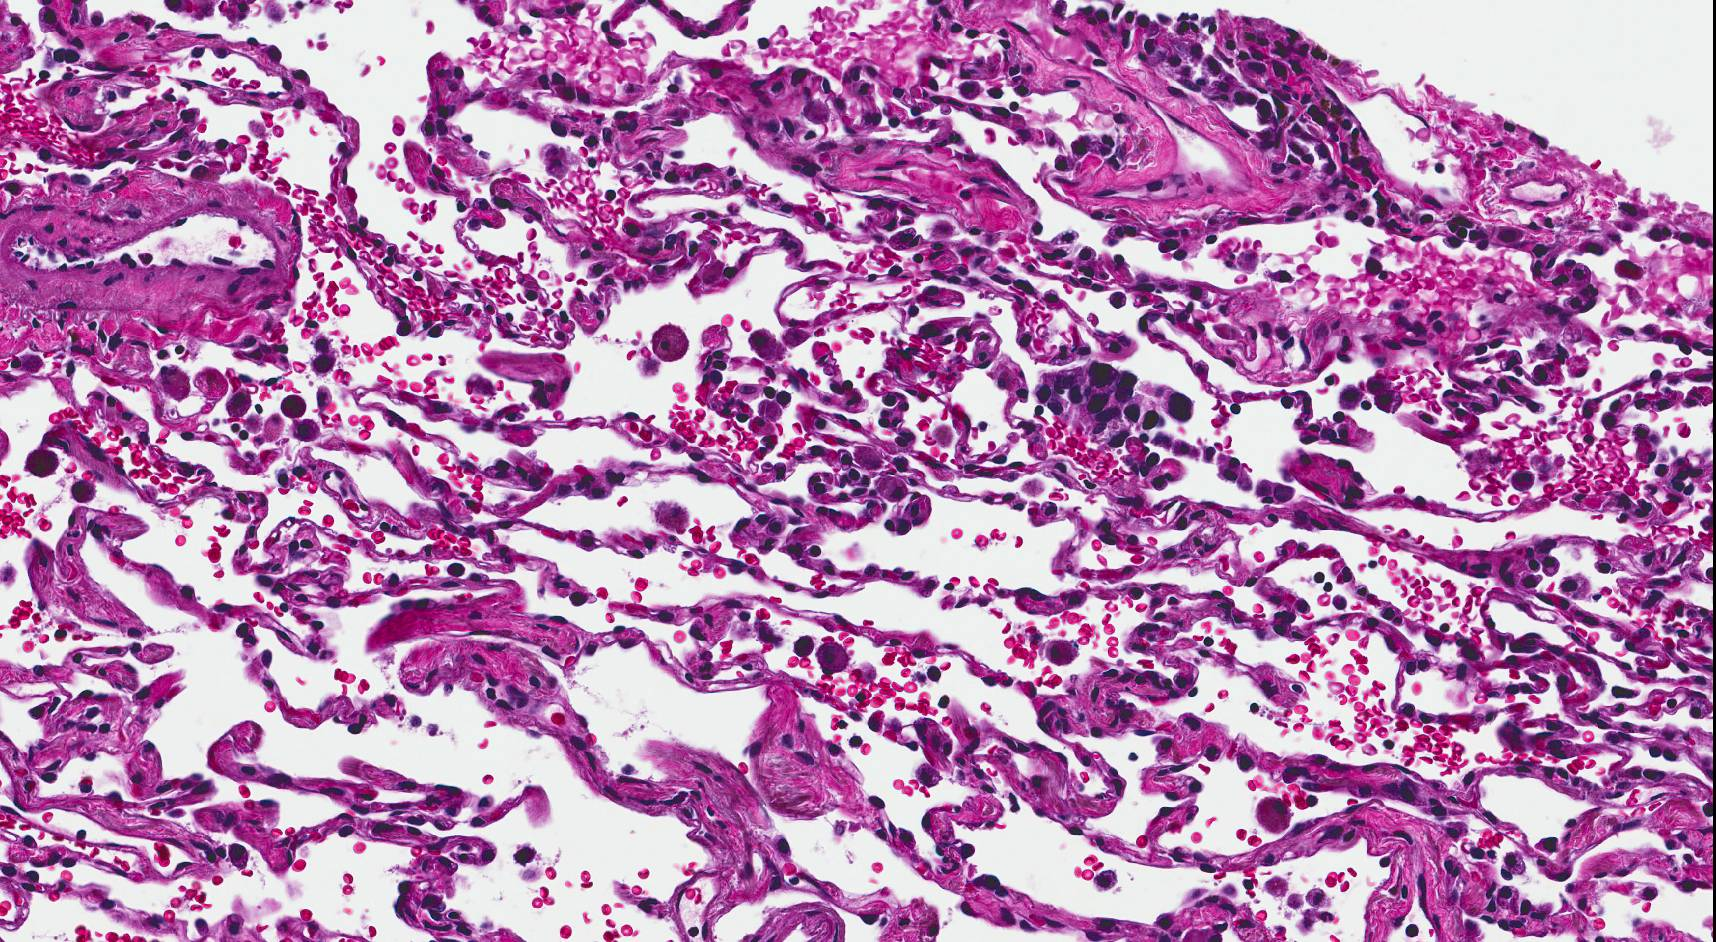stas: (1035, 358, 1193, 446)
